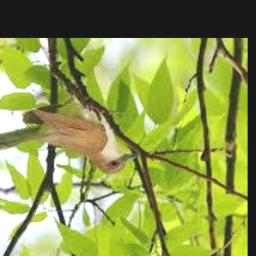Cuckoo: (0, 105, 138, 174)
